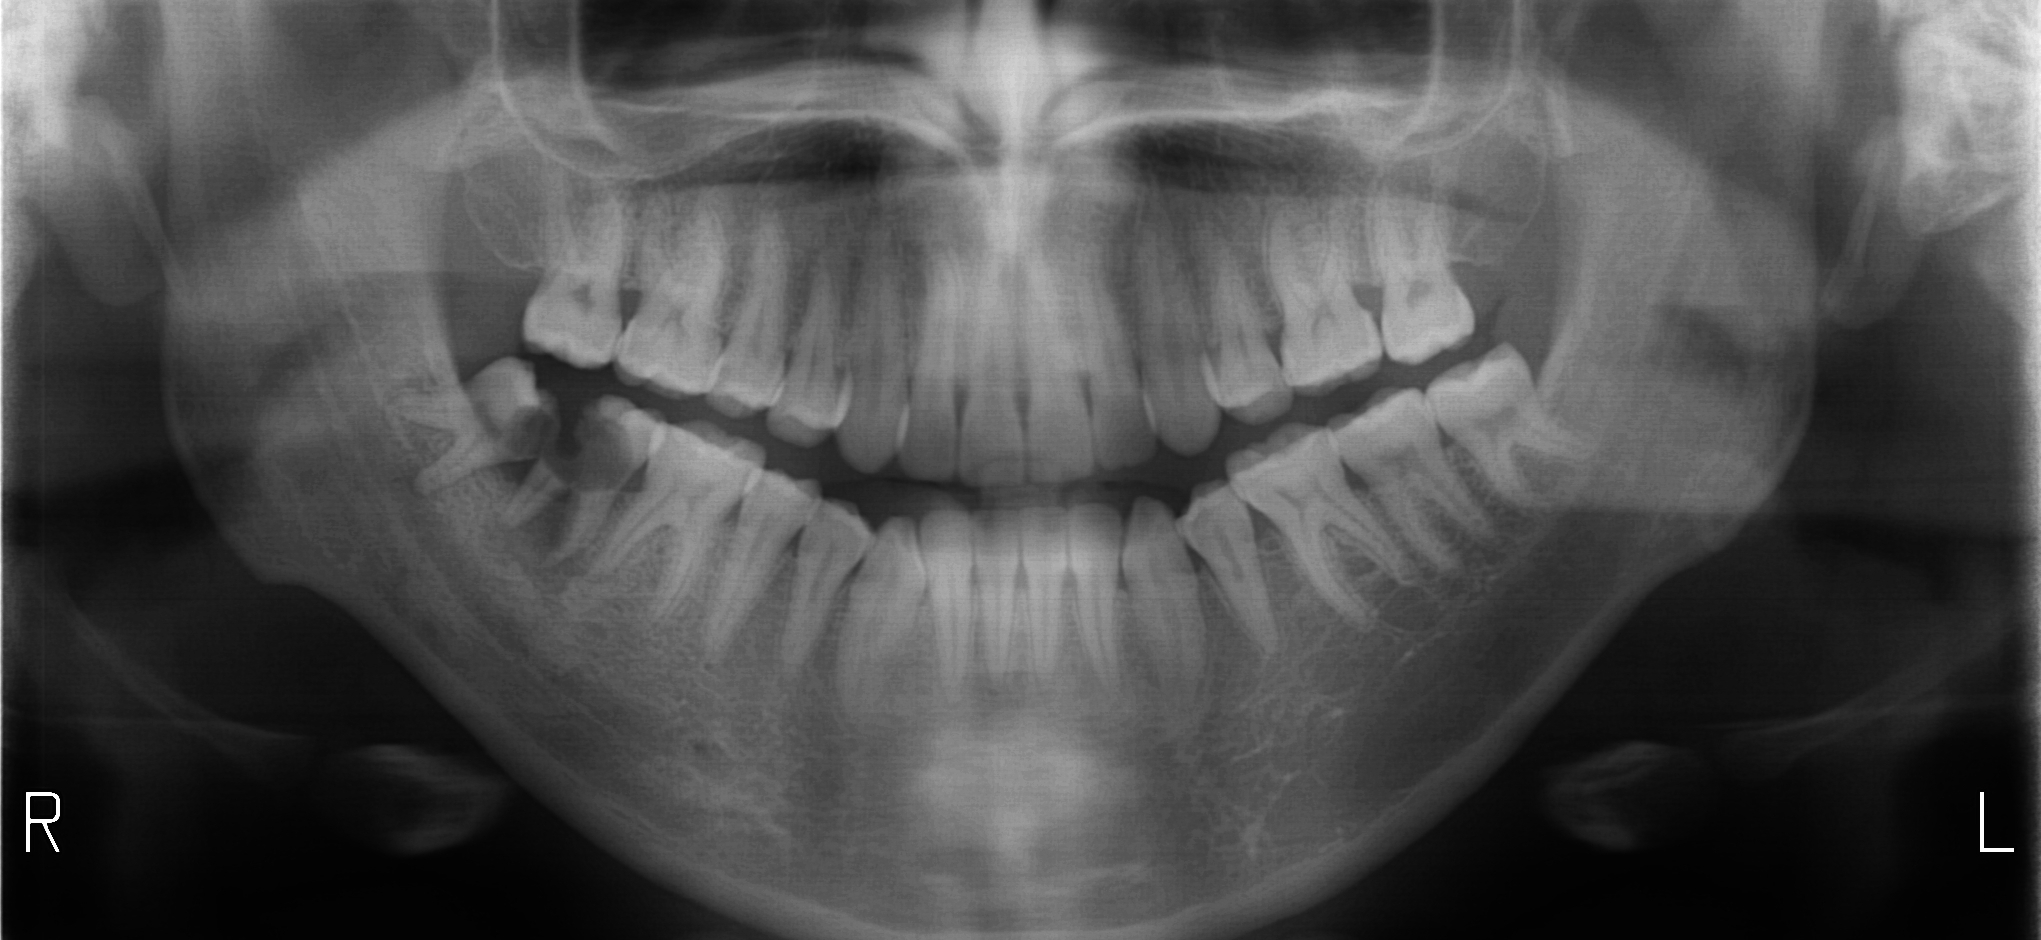cavity: (545, 394, 633, 486), (508, 409, 555, 458)
